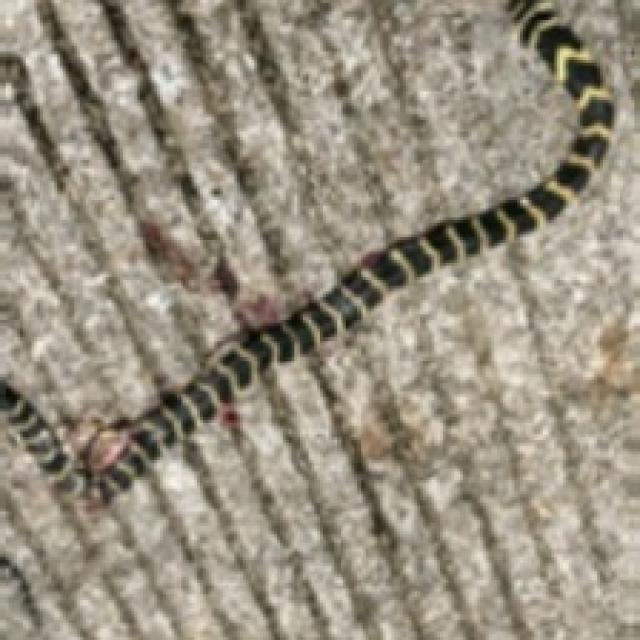king cobra: (0, 0, 583, 497)
